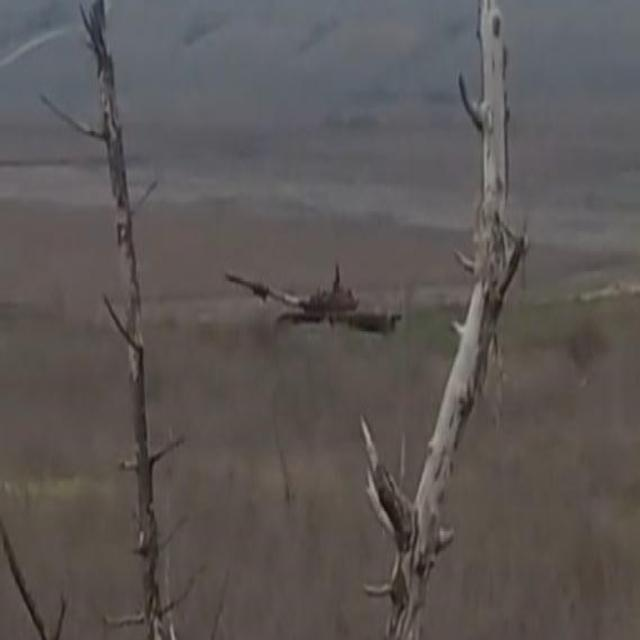TANK: (218, 269, 398, 349)
